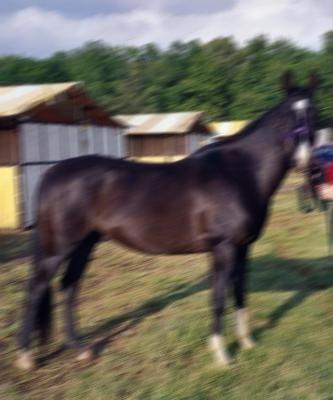horse: (13, 67, 322, 373)
